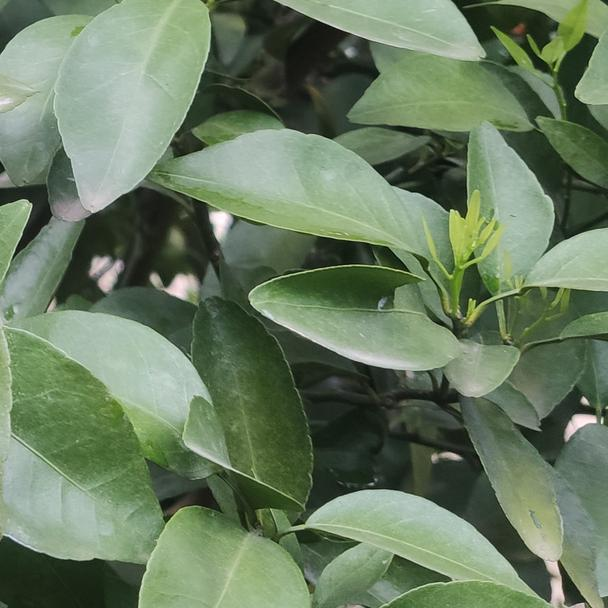shoot: (492, 5, 592, 114), (423, 199, 501, 289)
